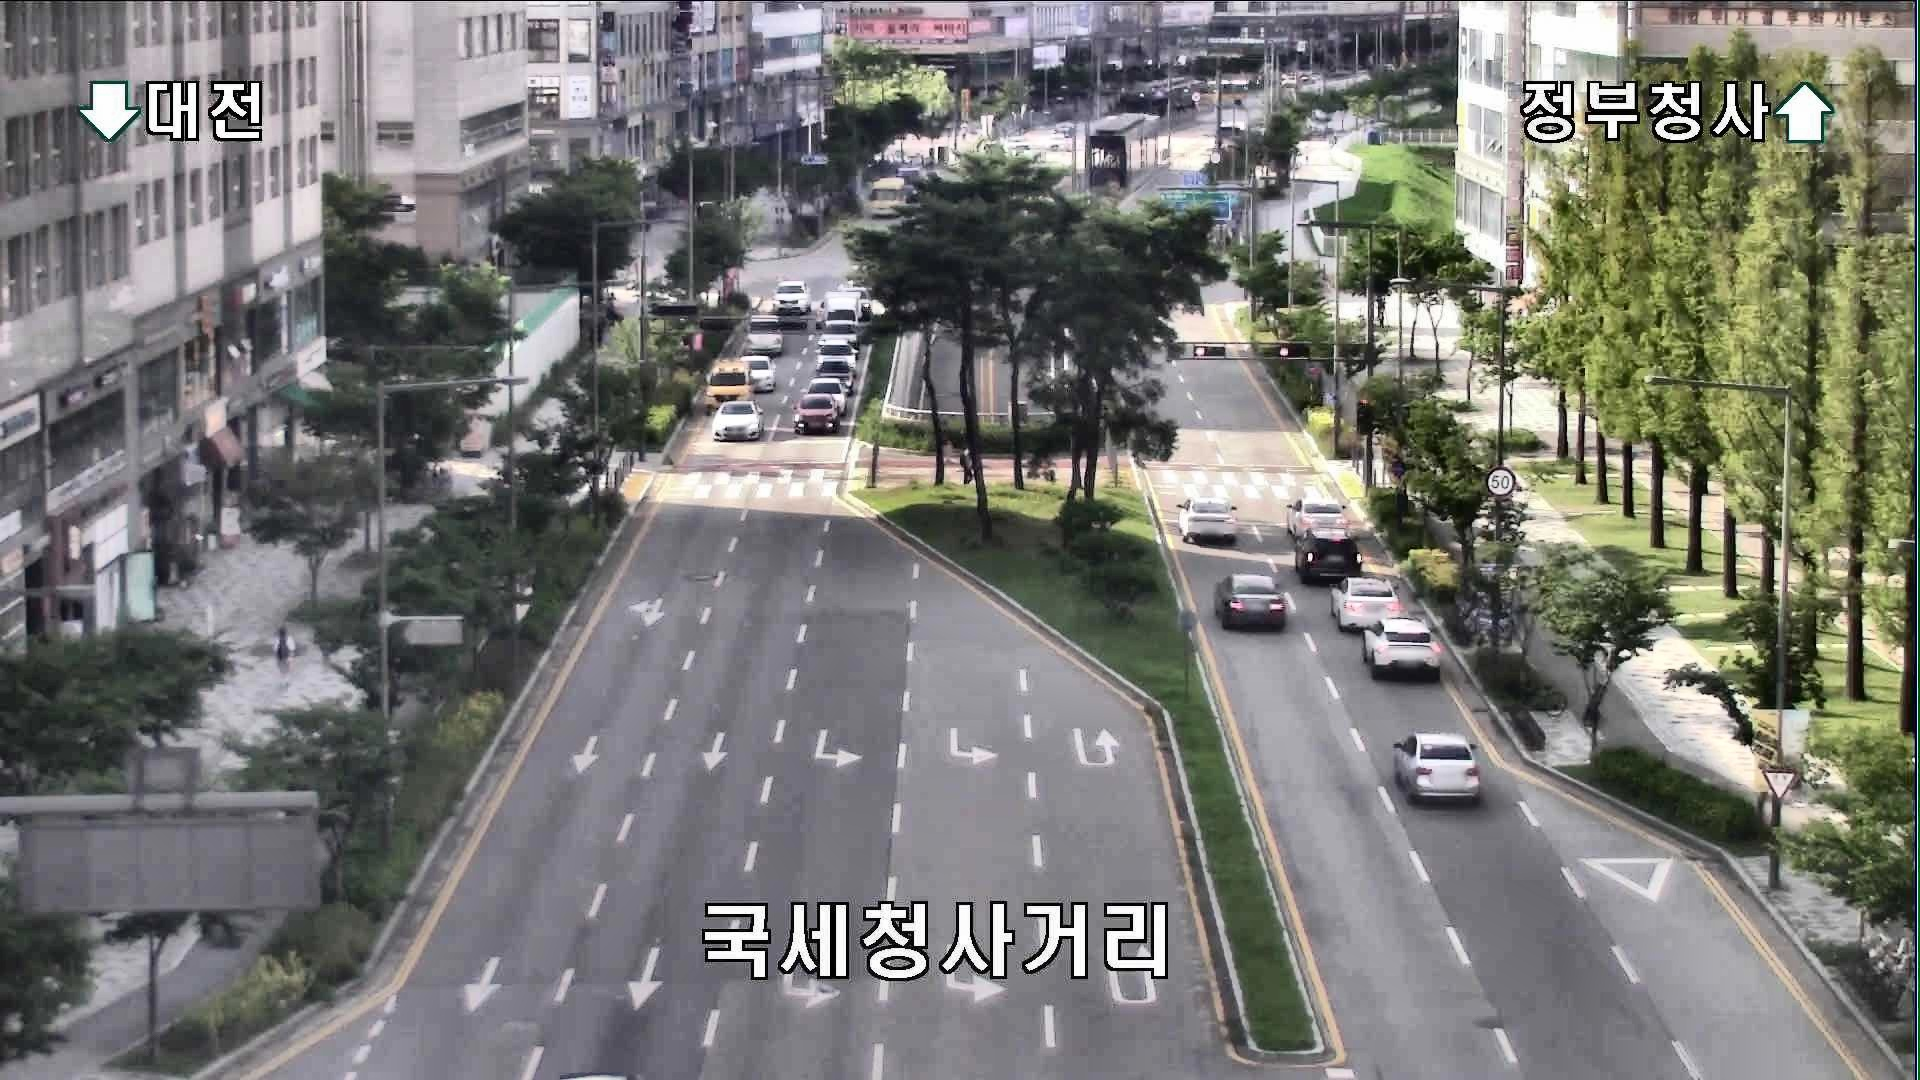crosswalk: (955, 446, 975, 484)
sidewalk: (272, 625, 298, 684)
